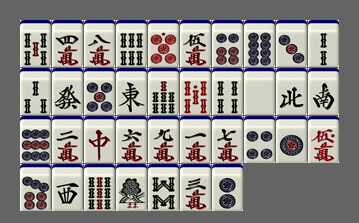0m: (308, 116, 339, 163)
0p: (148, 20, 179, 67)
0s: (180, 68, 211, 115)
1m: (180, 116, 211, 163)
1p: (276, 116, 307, 163)
1s: (116, 164, 147, 211)
1z: (116, 68, 147, 115)
2m: (52, 116, 83, 163)
2p: (212, 164, 243, 211)
2s: (308, 20, 339, 67)
2z: (308, 68, 339, 115)
3m: (180, 164, 211, 211)
3p: (276, 20, 307, 67)
3s: (20, 68, 51, 115)
3z: (52, 164, 83, 211)
4m: (52, 20, 83, 67)
4p: (244, 116, 275, 163)
4s: (212, 68, 243, 115)
4z: (276, 68, 307, 115)
5m: (180, 20, 211, 67)
5p: (84, 68, 115, 115)
5s: (20, 20, 51, 67)
5z: (244, 68, 275, 115)
6m: (116, 116, 147, 163)
6p: (212, 20, 243, 67)
6s: (116, 20, 147, 67)
6z: (52, 68, 83, 115)
7m: (212, 116, 243, 163)
7p: (20, 164, 51, 211)
7s: (148, 68, 179, 115)
7z: (84, 116, 115, 163)
8m: (84, 20, 115, 67)
8p: (244, 20, 275, 67)
8s: (148, 164, 179, 211)
9m: (148, 116, 179, 163)
9p: (20, 116, 51, 163)
9s: (84, 164, 115, 211)
